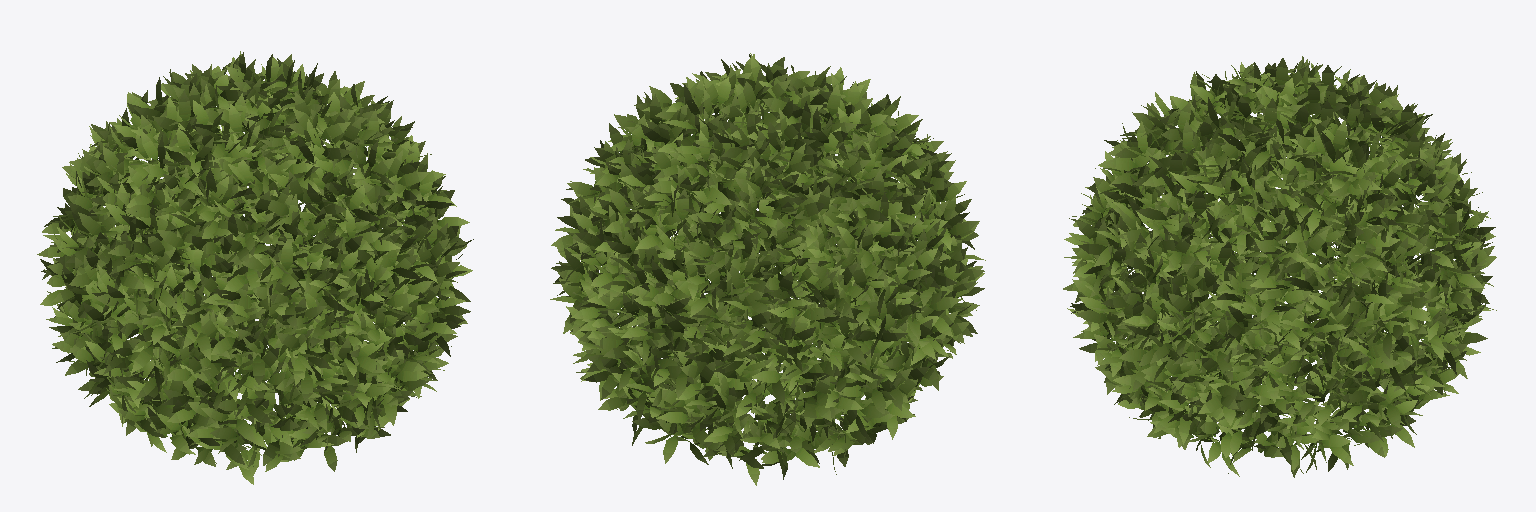
The picture shows the model from 3 angles: view 1: azimuth 30°, elevation 25°; view 2: azimuth 150°, elevation 25°; view 3: azimuth 270°, elevation 25°; orthographic projection.
Visible parts, largest first — view 1: new_shrub01_file; view 2: new_shrub01_file; view 3: new_shrub01_file.
Boxes of the visible parts, x1=… form: new_shrub01_file: x1=37, y1=51, x2=473, y2=484; new_shrub01_file: x1=550, y1=53, x2=985, y2=485; new_shrub01_file: x1=1063, y1=56, x2=1496, y2=477.
Size of the model in its own units: 1.37 by 1.26 by 1.37.
1 materials, 1 textured.